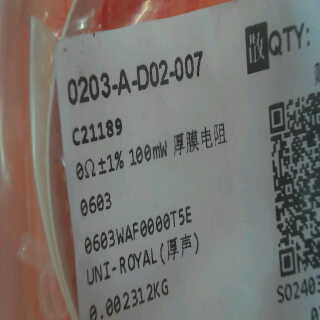0R: (68, 145, 127, 212)
